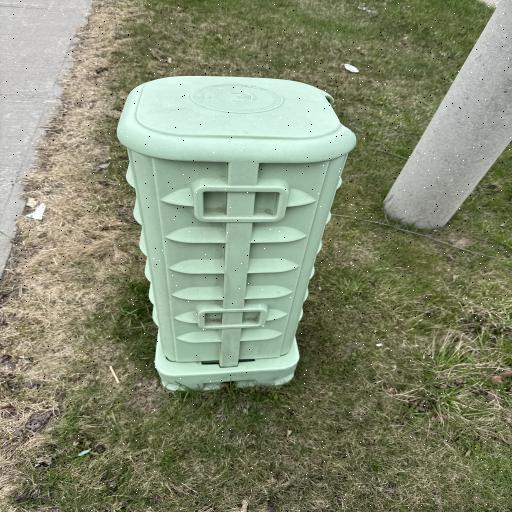Electrical Box: (120, 76, 357, 388)
